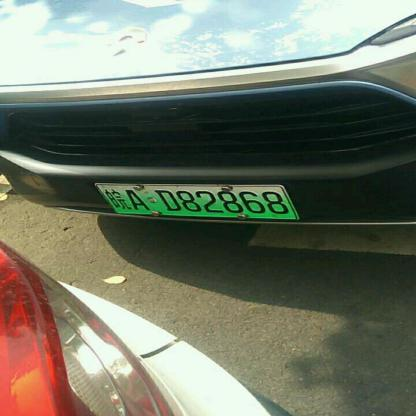lp: (96, 183, 296, 218)
